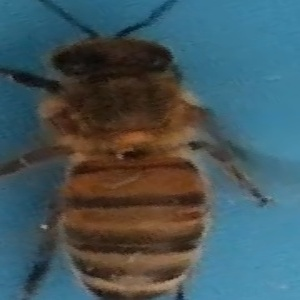bee: (2, 1, 275, 300)
